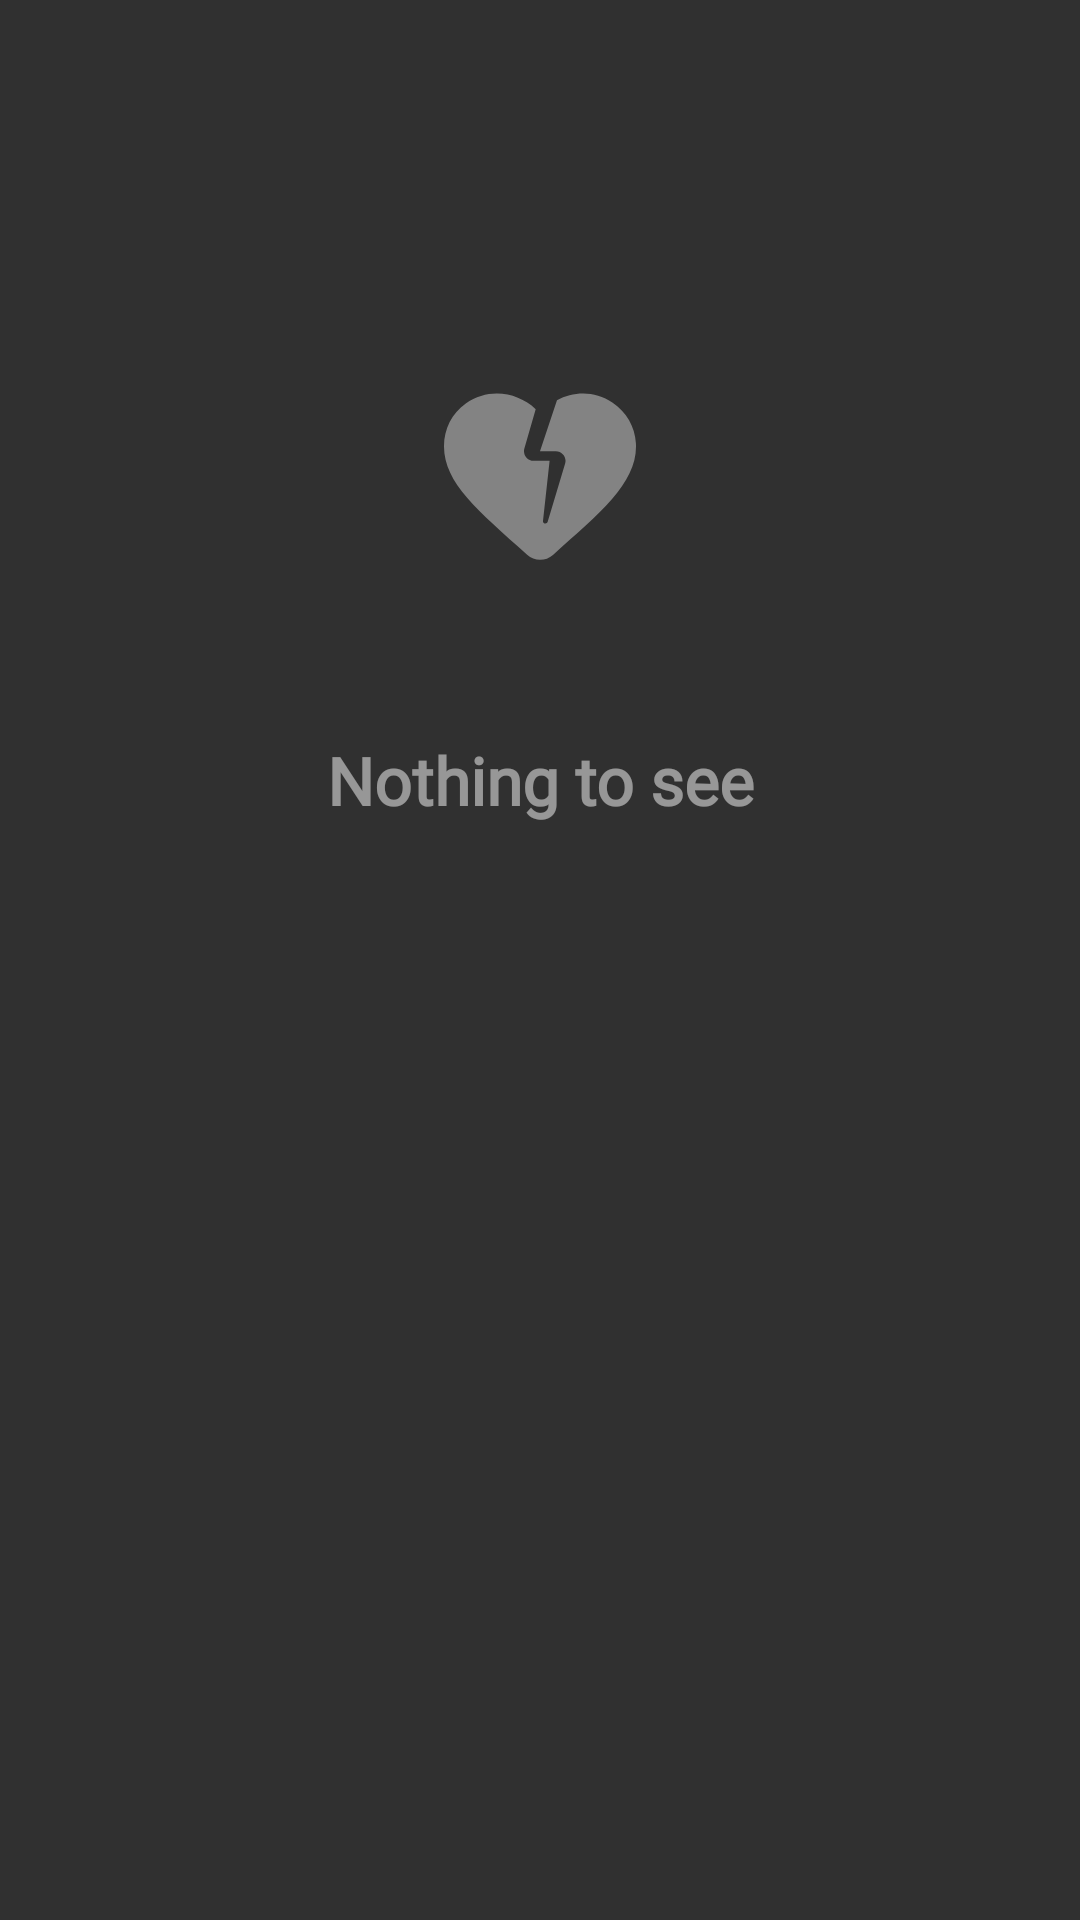

Screen size 1080px×1920px. Icon name, then its center in pixels as (x=x, y=y):
heart broken: (x=540, y=476)
